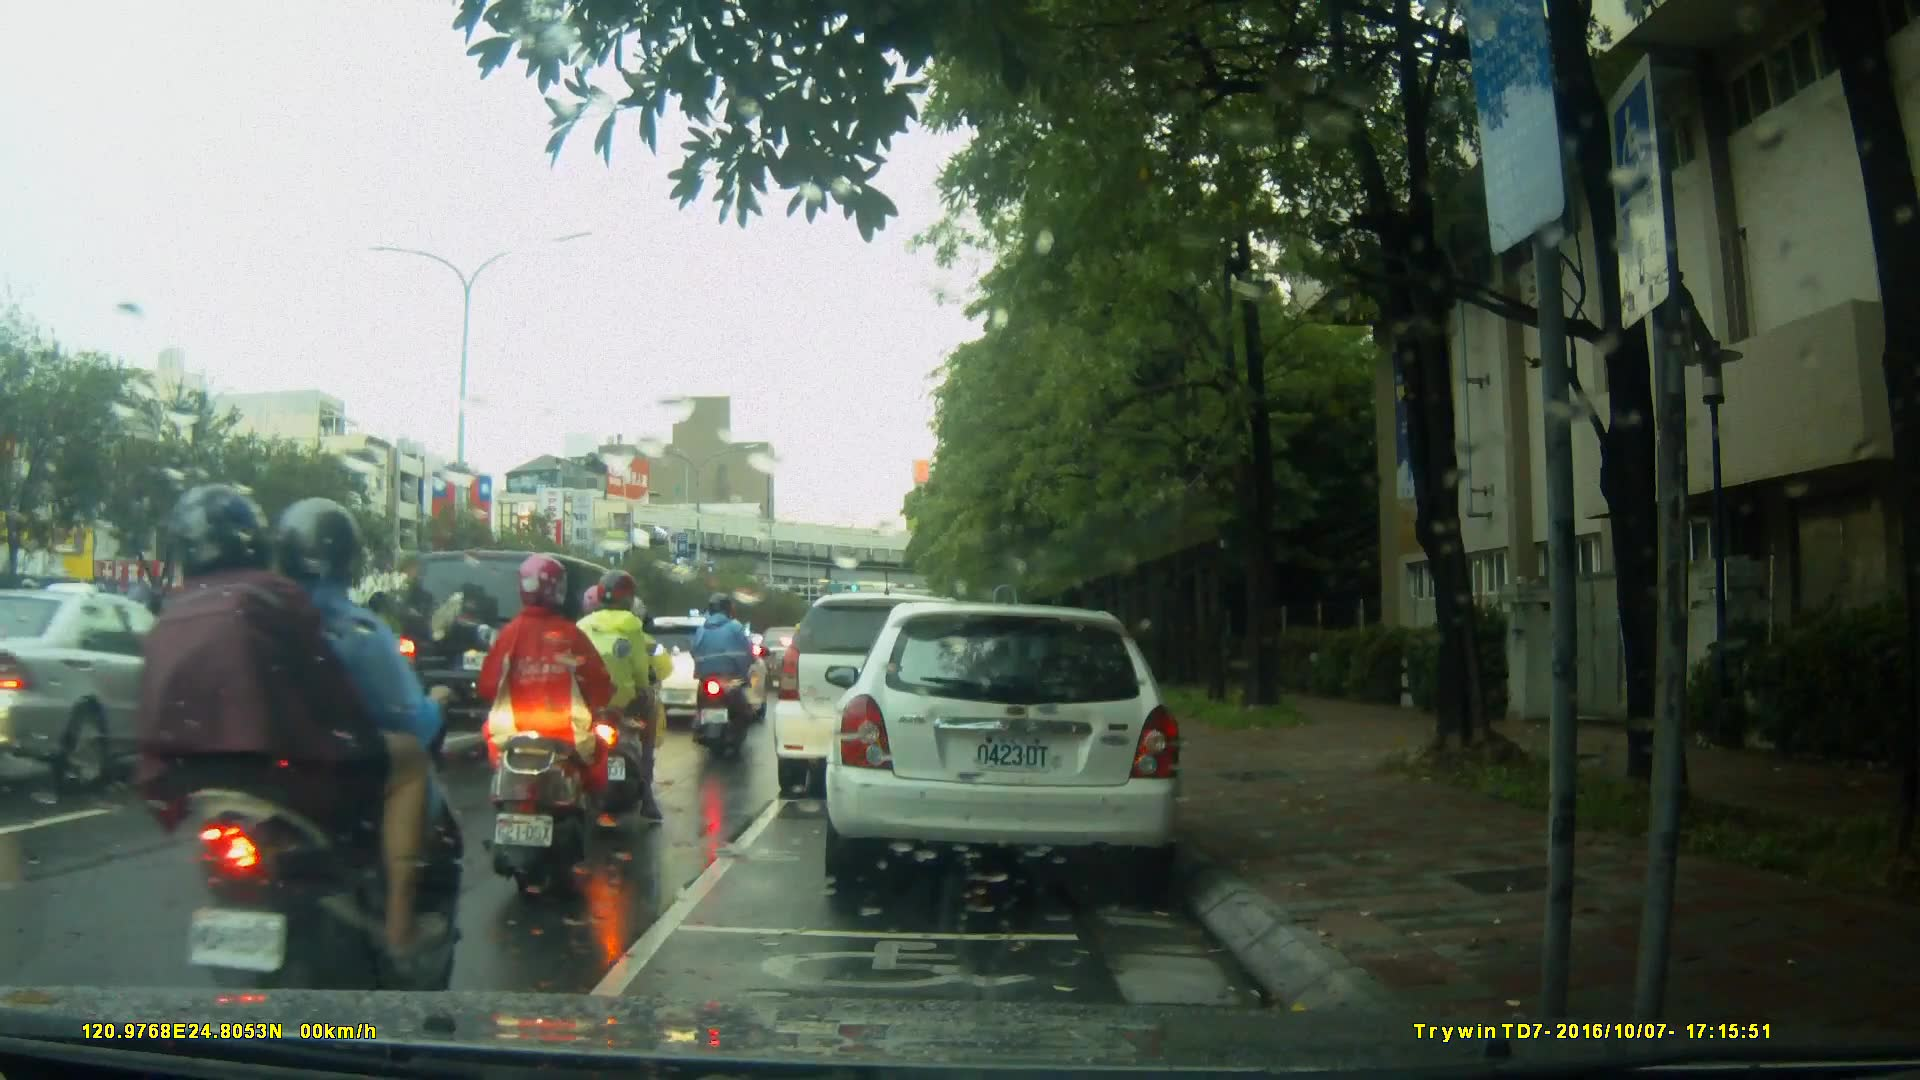rider: (122, 487, 460, 1016), (476, 551, 623, 907), (247, 569, 401, 800), (571, 570, 679, 830), (597, 596, 674, 802), (685, 592, 759, 755)
vehicle: (822, 604, 1188, 883), (398, 548, 657, 760), (1, 588, 230, 798), (774, 595, 995, 802)
